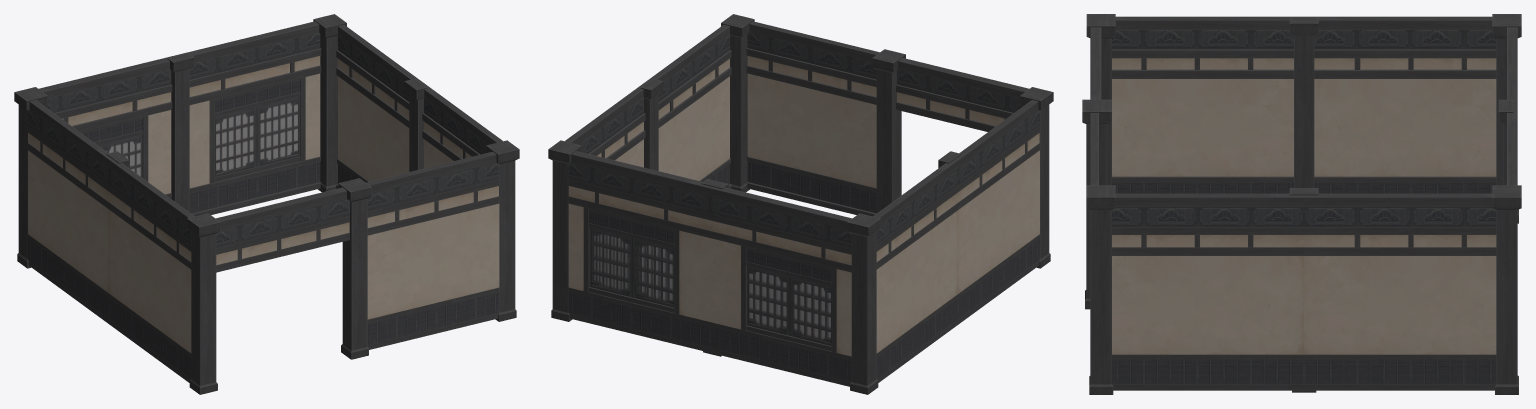
Rendered from Homeworld_Interior_Dq_Room_I_Wall_01_Vo.fbx.
3 renders of one model, left to right at view 1: azimuth 30°, elevation 25°; view 2: azimuth 150°, elevation 25°; view 3: azimuth 270°, elevation 25°, orthographic. The views are drawn at different scales.
Visible parts, largest first — view 1: Homeworld_Interior_Dq_Room_Wall_01_Vo (×5), Homeworld_Interior_Dq_Room_Wall_02_Vo (×2), Homeworld_Interior_Dq_Room_Pillar_01_Vo (×5), Homeworld_Interior_Dq_Room_Wall_04_Vo, Homeworld_Interior_Dq_Room_Pillar_02_Vo (×2); view 2: Homeworld_Interior_Dq_Room_Wall_01_Vo (×5), Homeworld_Interior_Dq_Room_Wall_02_Vo (×2), Homeworld_Interior_Dq_Room_Pillar_01_Vo (×5), Homeworld_Interior_Dq_Room_Wall_04_Vo, Homeworld_Interior_Dq_Room_I_Filling_01_Vo, Homeworld_Interior_Dq_Room_Pillar_02_Vo; view 3: Homeworld_Interior_Dq_Room_Wall_01_Vo (×5), Homeworld_Interior_Dq_Room_Pillar_01_Vo (×5), Homeworld_Interior_Dq_Room_Pillar_02_Vo (×2), Homeworld_Interior_Dq_Room_Wall_02_Vo (×2), Homeworld_Interior_Dq_Room_Wall_04_Vo.
Boxes of the visible parts, <box> form: Homeworld_Interior_Dq_Room_Wall_01_Vo (×5): <box>28,24,502,382</box>; Homeworld_Interior_Dq_Room_Wall_02_Vo (×2): <box>38,21,321,216</box>; Homeworld_Interior_Dq_Room_Pillar_01_Vo (×5): <box>14,14,519,394</box>; Homeworld_Interior_Dq_Room_Wall_04_Vo: <box>215,187,349,272</box>; Homeworld_Interior_Dq_Room_Pillar_02_Vo (×2): <box>167,53,427,211</box>; Homeworld_Interior_Dq_Room_Wall_01_Vo (×5): <box>565,21,1039,382</box>; Homeworld_Interior_Dq_Room_Wall_02_Vo (×2): <box>568,151,852,386</box>; Homeworld_Interior_Dq_Room_Pillar_01_Vo (×5): <box>548,14,1053,394</box>; Homeworld_Interior_Dq_Room_Wall_04_Vo: <box>896,58,1029,131</box>; Homeworld_Interior_Dq_Room_I_Filling_01_Vo: <box>591,233,830,339</box>; Homeworld_Interior_Dq_Room_Pillar_02_Vo: <box>640,78,663,170</box>; Homeworld_Interior_Dq_Room_Wall_01_Vo (×5): <box>1090,16,1496,390</box>; Homeworld_Interior_Dq_Room_Pillar_01_Vo (×5): <box>1082,14,1521,394</box>; Homeworld_Interior_Dq_Room_Pillar_02_Vo (×2): <box>1289,17,1513,187</box>; Homeworld_Interior_Dq_Room_Wall_02_Vo (×2): <box>1507,27,1517,185</box>; Homeworld_Interior_Dq_Room_Wall_04_Vo: <box>1090,27,1101,99</box>.
Size of what is drawn, in the model's own units: 10.18 by 5.12 by 10.28.
